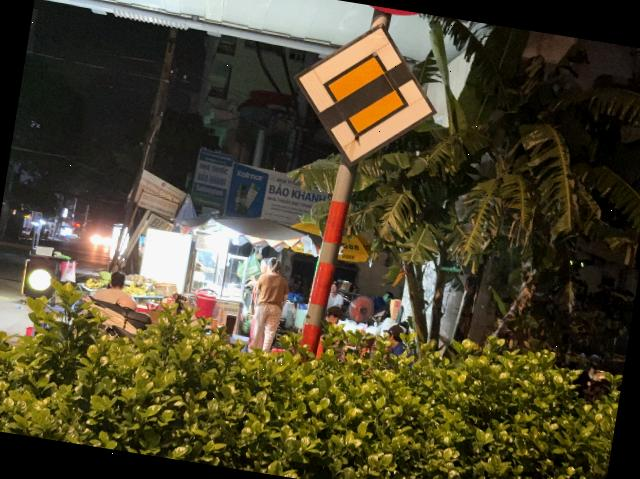het-duong-uu-tien: (280, 11, 450, 180)
